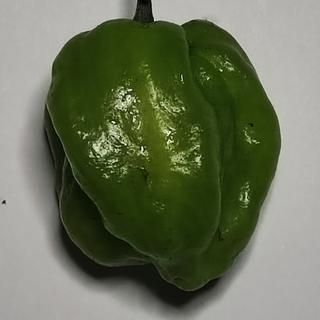Grade-A: (33, 11, 286, 302)
